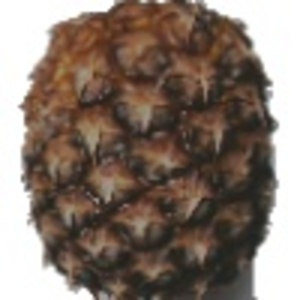abacaxi: (11, 3, 284, 293)
